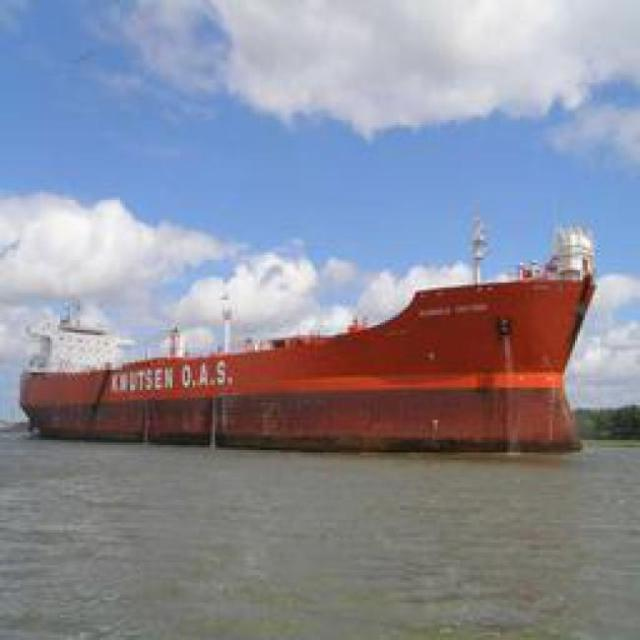boat: (19, 309, 594, 460)
